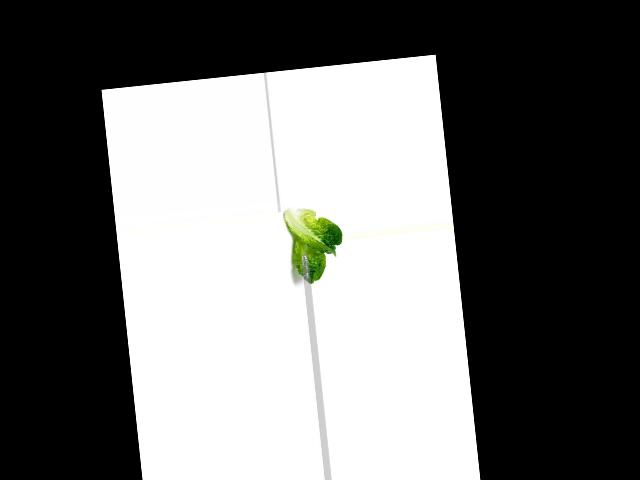lettuce: (285, 201, 347, 287)
